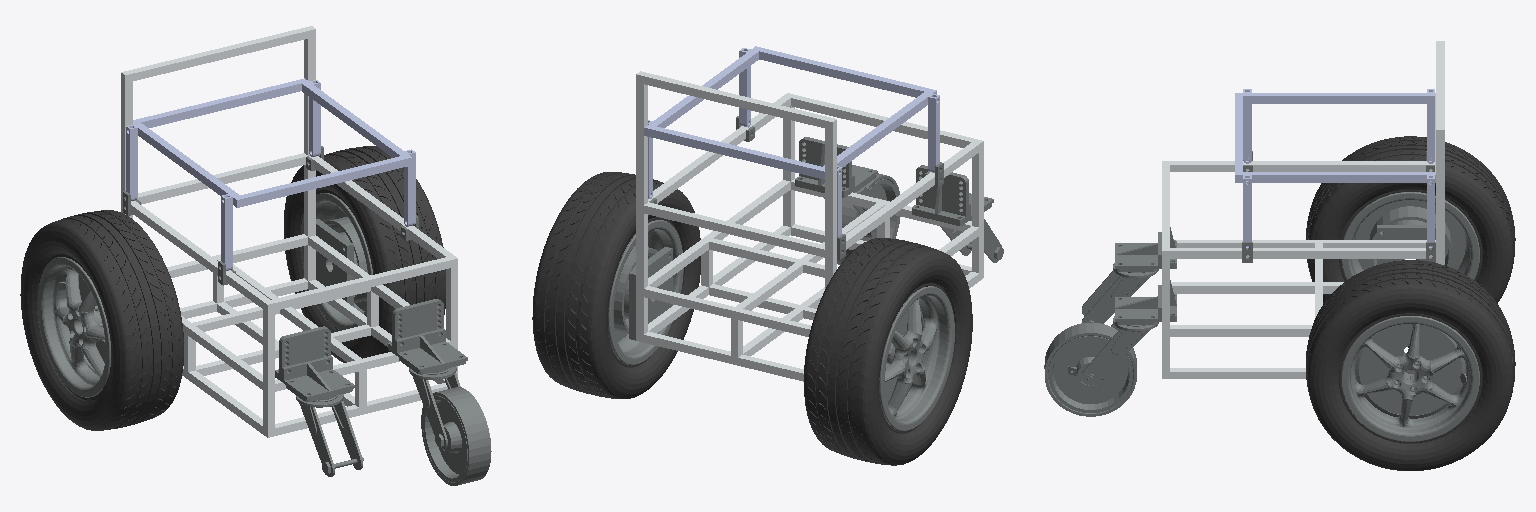
--- Render facts (derived) ---
3 views of the same robot in one strip: view 1: azimuth 30°, elevation 25°; view 2: azimuth 150°, elevation 25°; view 3: azimuth 270°, elevation 25° (orthographic).
Robot: Assem2 — 35 links, 34 joints (2 revolute, 4 continuous, 28 fixed); root link Chassis; default pose: every joint at zero.
Links seen in each view (by area): view 1: Chassis, r_tyre, l_tyre, rl_fixed, r_rim, l_wheel, l_rim, right_p2, left_p2, r_mounting_body, right_p1, left_p1 (+2 smaller); view 2: Chassis, r_tyre, l_tyre, rl_fixed, r_rim, l_rim, right_p1, left_tyre_mount, left_p1, l_wheel, r_mounting_body; view 3: l_tyre, Chassis, l_rim, r_tyre, rl_fixed, l_wheel, r_rim, r_mounting_body, l_mounting_body, right_p2, left_p2, right_tyre_mount.
Boxes of the visible links, bbox=[...] form: Chassis: bbox=[121, 26, 457, 437]; r_tyre: bbox=[20, 210, 183, 430]; l_tyre: bbox=[284, 146, 445, 362]; rl_fixed: bbox=[126, 78, 415, 270]; r_rim: bbox=[38, 257, 110, 397]; l_wheel: bbox=[421, 387, 491, 485]; l_rim: bbox=[301, 193, 372, 330]; right_p2: bbox=[282, 356, 354, 399]; left_p2: bbox=[395, 328, 467, 371]; r_mounting_body: bbox=[296, 394, 362, 476]; right_p1: bbox=[275, 326, 330, 381]; left_p1: bbox=[388, 299, 443, 353]; Chassis: bbox=[636, 71, 983, 381]; r_tyre: bbox=[804, 238, 972, 465]; l_tyre: bbox=[532, 172, 700, 398]; rl_fixed: bbox=[644, 46, 939, 237]; r_rim: bbox=[879, 286, 954, 430]; l_rim: bbox=[608, 220, 683, 364]; right_p1: bbox=[912, 165, 968, 225]; left_tyre_mount: bbox=[624, 247, 672, 340]; left_p1: bbox=[795, 137, 851, 197]; l_wheel: bbox=[837, 173, 899, 264]; r_mounting_body: bbox=[940, 219, 1001, 262]; l_tyre: bbox=[1306, 260, 1515, 470]; Chassis: bbox=[1162, 41, 1444, 378]; l_rim: bbox=[1341, 316, 1479, 441]; r_tyre: bbox=[1306, 136, 1515, 347]; rl_fixed: bbox=[1235, 89, 1435, 247]; l_wheel: bbox=[1044, 323, 1136, 416]; r_rim: bbox=[1341, 192, 1479, 279]; r_mounting_body: bbox=[1082, 263, 1158, 323]; l_mounting_body: bbox=[1082, 316, 1158, 384]; right_p2: bbox=[1115, 232, 1161, 268]; left_p2: bbox=[1115, 285, 1161, 321]; right_tyre_mount: bbox=[1377, 219, 1435, 264].
Bounding box of the posed robot: 1.19 × 1.53 × 1.12 m (x, y, z).
29 mesh visuals loaded from 35 distinct referenced files (29 binary STL); not drawn: 4 (reference not matched to a file when rendering), 2 (file found but could not be loaded).

robot.urdf — Assem2:
<?xml version="1.0" encoding="utf-8"?>
<!-- This URDF was automatically created by SolidWorks to URDF Exporter! Originally created by Stephen Brawner ([email redacted]) 
     Commit Version: 1.5.1-0-g916b5db  Build Version: 1.5.7152.31018
     For more information, please see http://wiki.ros.org/sw_urdf_exporter -->
<robot
  name="Assem2">
  <link
    name="Chassis">
    <inertial>
      <origin
        xyz="-2.8776E-16 0.4538 0.39752"
        rpy="0 0 0" />
      <mass
        value="22.232" />
      <inertia
        ixx="0.0001"
        ixy="0.0001"
        ixz="0.0001"
        iyy="0.0001"
        iyz="0.0001"
        izz="0.0001" />
    </inertial>
    <visual>
      <origin
        xyz="0 0 0"
        rpy="0 0 0" />
      <geometry>
        <mesh
          filename="package://Assem2/meshes/Chassis.STL" />
      </geometry>
      <material
        name="">
        <color
          rgba="0.89804 0.91765 0.92941 1" />
      </material>
    </visual>
    <collision>
      <origin
        xyz="0 0 0"
        rpy="0 0 0" />
      <geometry>
        <mesh
          filename="package://Assem2/meshes/Chassis.STL" />
      </geometry>
    </collision>
  </link>
  <link
    name="left_tyre_mount">
    <inertial>
      <origin
        xyz="-1.3878E-17 0.035211 -5.5511E-17"
        rpy="0 0 0" />
      <mass
        value="14.29" />
      <inertia
        ixx="0.0001"
        ixy="0.0001"
        ixz="0.0001"
        iyy="0.0001"
        iyz="0.0001"
        izz="0.0001" />
    </inertial>
    <visual>
      <origin
        xyz="0 0 0"
        rpy="0 0 0" />
      <geometry>
        <mesh
          filename="package://Assem2/meshes/left_tyre_mount.STL" />
      </geometry>
      <material
        name="">
        <color
          rgba="0.52941 0.54902 0.54902 1" />
      </material>
    </visual>
    <collision>
      <origin
        xyz="0 0 0"
        rpy="0 0 0" />
      <geometry>
        <mesh
          filename="package://Assem2/meshes/left_tyre_mount.STL" />
      </geometry>
    </collision>
  </link>
  <joint
    name="left_tyre_mount_j"
    type="fixed">
    <origin
      xyz="0.34367 -0.09653 0.32653"
      rpy="3.1416 0 1.5708" />
    <parent
      link="Chassis" />
    <child
      link="left_tyre_mount" />
    <axis
      xyz="0 0 0" />
  </joint>
  <link
    name="l_bearing">
    <inertial>
      <origin
        xyz="0.0809 -0.009926 -0.0012141"
        rpy="0 0 0" />
      <mass
        value="1.267" />
      <inertia
        ixx="0.0001"
        ixy="0.0001"
        ixz="0.0001"
        iyy="0.0001"
        iyz="0.0001"
        izz="0.0001" />
    </inertial>
    <visual>
      <origin
        xyz="0 0 0"
        rpy="0 0 0" />
      <geometry>
        <mesh
          filename="package://Assem2/meshes/l_bearing.STL" />
      </geometry>
      <material
        name="">
        <color
          rgba="0.75294 0.75294 0.75294 1" />
      </material>
    </visual>
    <collision>
      <origin
        xyz="0 0 0"
        rpy="0 0 0" />
      <geometry>
        <mesh
          filename="package://Assem2/meshes/l_bearing.STL" />
      </geometry>
    </collision>
  </link>
  <joint
    name="l_bearing_j"
    type="fixed">
    <origin
      xyz="0.01 0 0"
      rpy="3.0199 0 1.5708" />
    <parent
      link="left_tyre_mount" />
    <child
      link="l_bearing" />
    <axis
      xyz="0 0 0" />
  </joint>
  <link
    name="l_rim">
    <inertial>
      <origin
        xyz="0.13619 2.8023E-05 -3.4335E-08"
        rpy="0 0 0" />
      <mass
        value="70.756" />
      <inertia
        ixx="0.0001"
        ixy="0.0001"
        ixz="0.0001"
        iyy="0.0001"
        iyz="0.0001"
        izz="0.0001" />
    </inertial>
    <visual>
      <origin
        xyz="0 0 0"
        rpy="0 0 0" />
      <geometry>
        <mesh
          filename="package://Assem2/meshes/l_rim.STL" />
      </geometry>
      <material
        name="">
        <color
          rgba="0.52941 0.54902 0.54902 1" />
      </material>
    </visual>
    <collision>
      <origin
        xyz="0 0 0"
        rpy="0 0 0" />
      <geometry>
        <mesh
          filename="package://Assem2/meshes/l_rim.STL" />
      </geometry>
    </collision>
  </link>
  <joint
    name="l_rim_j"
    type="continuous">
    <origin
      xyz="0 -0.009926 -0.0012141"
      rpy="0 0 0" />
    <parent
      link="l_bearing" />
    <child
      link="l_rim" />
    <axis
      xyz="1 0 0" />
    <limit
      effort="5"
      velocity="1" />
  </joint>
  <link
    name="l_sprocket">
    <inertial>
      <origin
        xyz="9.3675E-16 -0.029524 0.00039802"
        rpy="0 0 0" />
      <mass
        value="1.5931" />
      <inertia
        ixx="0.0001"
        ixy="0.0001"
        ixz="0.0001"
        iyy="0.0001"
        iyz="0.0001"
        izz="0.0001" />
    </inertial>
    <visual>
      <origin
        xyz="0 0 0"
        rpy="0 0 0" />
      <geometry>
        <mesh
          filename="package://Assem2/meshes/l_sprocket.STL" />
      </geometry>
      <material
        name="">
        <color
          rgba="0.52941 0.54902 0.54902 1" />
      </material>
    </visual>
    <collision>
      <origin
        xyz="0 0 0"
        rpy="0 0 0" />
      <geometry>
        <mesh
          filename="package://Assem2/meshes/l_sprocket.STL" />
      </geometry>
    </collision>
  </link>
  <joint
    name="l_sprocket_j"
    type="fixed">
    <origin
      xyz="0.1422 0 0"
      rpy="0 -0.31416 1.5708" />
    <parent
      link="l_rim" />
    <child
      link="l_sprocket" />
    <axis
      xyz="0 0 0" />
  </joint>
  <link
    name="l_tyre">
    <inertial>
      <origin
        xyz="0.1307 -6.9389E-17 0"
        rpy="0 0 0" />
      <mass
        value="7.6828" />
      <inertia
        ixx="0.0001"
        ixy="0.0001"
        ixz="0.0001"
        iyy="0.0001"
        iyz="0.0001"
        izz="0.0001" />
    </inertial>
    <visual>
      <origin
        xyz="0 0 0"
        rpy="0 0 0" />
      <geometry>
        <mesh
          filename="package://Assem2/meshes/l_tyre.STL" />
      </geometry>
      <material
        name="">
        <color
          rgba="0.29804 0.29804 0.29804 1" />
      </material>
    </visual>
    <collision>
      <origin
        xyz="0 0 0"
        rpy="0 0 0" />
      <geometry>
        <mesh
          filename="package://Assem2/meshes/l_tyre.STL" />
      </geometry>
    </collision>
  </link>
  <joint
    name="l_tyre_j"
    type="fixed">
    <origin
      xyz="0 0 0"
      rpy="-2.827 0 0" />
    <parent
      link="l_rim" />
    <child
      link="l_tyre" />
    <axis
      xyz="1 0 0" />
  </joint>
  <link
    name="right_tyre_mount">
    <inertial>
      <origin
        xyz="0 0.035211 0"
        rpy="0 0 0" />
      <mass
        value="14.29" />
      <inertia
        ixx="0.0001"
        ixy="0.0001"
        ixz="0.0001"
        iyy="0.0001"
        iyz="0.0001"
        izz="0.0001" />
    </inertial>
    <visual>
      <origin
        xyz="0 0 0"
        rpy="0 0 0" />
      <geometry>
        <mesh
          filename="package://Assem2/meshes/right_tyre_mount.STL" />
      </geometry>
      <material
        name="">
        <color
          rgba="0.52941 0.54902 0.54902 1" />
      </material>
    </visual>
    <collision>
      <origin
        xyz="0 0 0"
        rpy="0 0 0" />
      <geometry>
        <mesh
          filename="package://Assem2/meshes/right_tyre_mount.STL" />
      </geometry>
    </collision>
  </link>
  <joint
    name="right_tyre_mount_j"
    type="fixed">
    <origin
      xyz="-0.34367 -0.09653 0.32653"
      rpy="1.5708 -1.5708 0" />
    <parent
      link="Chassis" />
    <child
      link="right_tyre_mount" />
    <axis
      xyz="0 0 0" />
  </joint>
  <link
    name="r_bearing">
    <inertial>
      <origin
        xyz="0.0809 -0.0038538 0.0092276"
        rpy="0 0 0" />
      <mass
        value="1.267" />
      <inertia
        ixx="0.0001"
        ixy="0.0001"
        ixz="0.0001"
        iyy="0.0001"
        iyz="0.0001"
        izz="0.0001" />
    </inertial>
    <visual>
      <origin
        xyz="0 0 0"
        rpy="0 0 0" />
      <geometry>
        <mesh
          filename="package://Assem2/meshes/r_bearing.STL" />
      </geometry>
      <material
        name="">
        <color
          rgba="0.75294 0.75294 0.75294 1" />
      </material>
    </visual>
    <collision>
      <origin
        xyz="0 0 0"
        rpy="0 0 0" />
      <geometry>
        <mesh
          filename="package://Assem2/meshes/r_bearing.STL" />
      </geometry>
    </collision>
  </link>
  <joint
    name="r_bearing_j"
    type="fixed">
    <origin
      xyz="0.01 0 0"
      rpy="-1.9664 0 1.5708" />
    <parent
      link="right_tyre_mount" />
    <child
      link="r_bearing" />
    <axis
      xyz="1 0 0" />
  </joint>
  <link
    name="r_rim">
    <inertial>
      <origin
        xyz="0.13619 2.8011E-05 -3.9794E-08"
        rpy="0 0 0" />
      <mass
        value="70.756" />
      <inertia
        ixx="0.0001"
        ixy="0.0001"
        ixz="0.0001"
        iyy="0.0001"
        iyz="0.0001"
        izz="0.0001" />
    </inertial>
    <visual>
      <origin
        xyz="0 0 0"
        rpy="0 0 0" />
      <geometry>
        <mesh
          filename="package://Assem2/meshes/r_rim.STL" />
      </geometry>
      <material
        name="">
        <color
          rgba="0.52941 0.54902 0.54902 1" />
      </material>
    </visual>
    <collision>
      <origin
        xyz="0 0 0"
        rpy="0 0 0" />
      <geometry>
        <mesh
          filename="package://Assem2/meshes/r_rim.STL" />
      </geometry>
    </collision>
  </link>
  <joint
    name="r_rim_j"
    type="continuous">
    <origin
      xyz="0 -0.0038538 0.0092276"
      rpy="0 0 0" />
    <parent
      link="r_bearing" />
    <child
      link="r_rim" />
    <axis
      xyz="1 0 0" />
    <limit
      effort="5"
      velocity="1" />
  </joint>
  <link
    name="r_sprocket">
    <inertial>
      <origin
        xyz="9.4369E-16 -0.029524 0.00039802"
        rpy="0 0 0" />
      <mass
        value="1.5931" />
      <inertia
        ixx="0.0001"
        ixy="0.0001"
        ixz="0.0001"
        iyy="0.0001"
        iyz="0.0001"
        izz="0.0001" />
    </inertial>
    <visual>
      <origin
        xyz="0 0 0"
        rpy="0 0 0" />
      <geometry>
        <mesh
          filename="package://Assem2/meshes/r_sprocket.STL" />
      </geometry>
      <material
        name="">
        <color
          rgba="0.52941 0.54902 0.54902 1" />
      </material>
    </visual>
    <collision>
      <origin
        xyz="0 0 0"
        rpy="0 0 0" />
      <geometry>
        <mesh
          filename="package://Assem2/meshes/r_sprocket.STL" />
      </geometry>
    </collision>
  </link>
  <joint
    name="r_sprocket_j"
    type="fixed">
    <origin
      xyz="0.1422 0 0"
      rpy="0 -0.31416 1.5708" />
    <parent
      link="r_rim" />
    <child
      link="r_sprocket" />
    <axis
      xyz="0 1 0" />
  </joint>
  <link
    name="r_tyre">
    <inertial>
      <origin
        xyz="0.1307 1.1102E-16 2.7756E-16"
        rpy="0 0 0" />
      <mass
        value="7.6828" />
      <inertia
        ixx="0.0001"
        ixy="0.0001"
        ixz="0.0001"
        iyy="0.0001"
        iyz="0.0001"
        izz="0.0001" />
    </inertial>
    <visual>
      <origin
        xyz="0 0 0"
        rpy="0 0 0" />
      <geometry>
        <mesh
          filename="package://Assem2/meshes/r_tyre.STL" />
      </geometry>
      <material
        name="">
        <color
          rgba="0.29804 0.29804 0.29804 1" />
      </material>
    </visual>
    <collision>
      <origin
        xyz="0 0 0"
        rpy="0 0 0" />
      <geometry>
        <mesh
          filename="package://Assem2/meshes/r_tyre.STL" />
      </geometry>
    </collision>
  </link>
  <joint
    name="r_tyre_j"
    type="fixed">
    <origin
      xyz="0 0 0"
      rpy="-2.827 0 0" />
    <parent
      link="r_rim" />
    <child
      link="r_tyre" />
    <axis
      xyz="1 0 0" />
  </joint>
  <link
    name="fl_upper">
    <inertial>
      <origin
        xyz="-3.4694E-18 0.012951 0.02796"
        rpy="0 0 0" />
      <mass
        value="0.32153" />
      <inertia
        ixx="0.0001"
        ixy="0.0001"
        ixz="0.0001"
        iyy="0.0001"
        iyz="0.0001"
        izz="0.0001" />
    </inertial>
    <visual>
      <origin
        xyz="0 0 0"
        rpy="0 0 0" />
      <geometry>
        <mesh
          filename="package://Assem2/meshes/fl_upper.STL" />
      </geometry>
      <material
        name="">
        <color
          rgba="0.52941 0.54902 0.54902 1" />
      </material>
    </visual>
    <collision>
      <origin
        xyz="0 0 0"
        rpy="0 0 0" />
      <geometry>
        <mesh
          filename="package://Assem2/meshes/fl_upper.STL" />
      </geometry>
    </collision>
  </link>
  <joint
    name="fl_upper_j"
    type="fixed">
    <origin
      xyz="0.30673 -0.03047 0.67527"
      rpy="-1.5708 0 -1.5708" />
    <parent
      link="Chassis" />
    <child
      link="fl_upper" />
    <axis
      xyz="0 0 0" />
  </joint>
  <link
    name="fl_fixed">
    <inertial>
      <origin
        xyz="0.32385 0.194 -0.31372"
        rpy="0 0 0" />
      <mass
        value="1.8214" />
      <inertia
        ixx="0.0001"
        ixy="0.0001"
        ixz="0.0001"
        iyy="0.0001"
        iyz="0.0001"
        izz="0.0001" />
    </inertial>
    <visual>
      <origin
        xyz="0 0 0"
        rpy="0 0 0" />
      <geometry>
        <mesh
          filename="package://Assem2/meshes/fl_fixed.STL" />
      </geometry>
      <material
        name="">
        <color
          rgba="0.79216 0.81961 0.93333 1" />
      </material>
    </visual>
    <collision>
      <origin
        xyz="0 0 0"
        rpy="0 0 0" />
      <geometry>
        <mesh
          filename="package://Assem2/meshes/fl_fixed.STL" />
      </geometry>
    </collision>
  </link>
  <joint
    name="fl_fixed_j"
    type="fixed">
    <origin
      xyz="0.62076 -0.0035296 -0.0034704"
      rpy="0.051754 0 3.1416" />
    <parent
      link="fl_upper" />
    <child
      link="fl_fixed" />
    <axis
      xyz="0 0 0" />
  </joint>
  <link
    name="fr_upper">
    <inertial>
      <origin
        xyz="3.4694E-18 -0.012951 -0.02796"
        rpy="0 0 0" />
      <mass
        value="0.32153" />
      <inertia
        ixx="0.0001"
        ixy="0.0001"
        ixz="0.0001"
        iyy="0.0001"
        iyz="0.0001"
        izz="0.0001" />
    </inertial>
    <visual>
      <origin
        xyz="0 0 0"
        rpy="0 0 0" />
      <geometry>
        <mesh
          filename="package://Assem2/meshes/fr_upper.STL" />
      </geometry>
      <material
        name="">
        <color
          rgba="0.52941 0.54902 0.54902 1" />
      </material>
    </visual>
    <collision>
      <origin
        xyz="0 0 0"
        rpy="0 0 0" />
      <geometry>
        <mesh
          filename="package://Assem2/meshes/fr_upper.STL" />
      </geometry>
    </collision>
  </link>
  <joint
    name="fr_upper_j"
    type="fixed">
    <origin
      xyz="-0.30673 -0.03047 0.67527"
      rpy="1.5708 0 1.5708" />
    <parent
      link="Chassis" />
    <child
      link="fr_upper" />
    <axis
      xyz="0 0 0" />
  </joint>
  <link
    name="fr_fixed">
    <inertial>
      <origin
        xyz="0.32385 0.194 -0.31372"
        rpy="0 0 0" />
      <mass
        value="1.8214" />
      <inertia
        ixx="0.0001"
        ixy="0.0001"
        ixz="0.0001"
        iyy="0.0001"
        iyz="0.0001"
        izz="0.0001" />
    </inertial>
    <visual>
      <origin
        xyz="0 0 0"
        rpy="0 0 0" />
      <geometry>
        <mesh
          filename="package://Assem2/meshes/fr_fixed.STL" />
      </geometry>
      <material
        name="">
        <color
          rgba="0.79216 0.81961 0.93333 1" />
      </material>
    </visual>
    <collision>
      <origin
        xyz="0 0 0"
        rpy="0 0 0" />
      <geometry>
        <mesh
          filename="package://Assem2/meshes/fr_fixed.STL" />
      </geometry>
    </collision>
  </link>
  <joint
    name="fr_fixed_j"
    type="fixed">
    <origin
      xyz="-0.62076 0.0035296 0.60999"
      rpy="0.051754 0 0" />
    <parent
      link="fr_upper" />
    <child
      link="fr_fixed" />
    <axis
      xyz="0 0 0" />
  </joint>
  <link
    name="rl_upper">
    <inertial>
      <origin
        xyz="0 0.012951 0.02796"
        rpy="0 0 0" />
      <mass
        value="0.32153" />
      <inertia
        ixx="0.0001"
        ixy="0.0001"
        ixz="0.0001"
        iyy="0.0001"
        iyz="0.0001"
        izz="0.0001" />
    </inertial>
    <visual>
      <origin
        xyz="0 0 0"
        rpy="0 0 0" />
      <geometry>
        <mesh
          filename="package://Assem2/meshes/rl_upper.STL" />
      </geometry>
      <material
        name="">
        <color
          rgba="0.52941 0.54902 0.54902 1" />
      </material>
    </visual>
    <collision>
      <origin
        xyz="0 0 0"
        rpy="0 0 0" />
      <geometry>
        <mesh
          filename="package://Assem2/meshes/rl_upper.STL" />
      </geometry>
    </collision>
  </link>
  <joint
    name="rl_upper_j"
    type="fixed">
    <origin
      xyz="0.30673 -0.62429 0.67527"
      rpy="-1.5708 0 -1.5708" />
    <parent
      link="Chassis" />
    <child
      link="rl_upper" />
    <axis
      xyz="0 0 0" />
  </joint>
  <link
    name="rl_fixed">
    <inertial>
      <origin
        xyz="0.32385 0.194 -0.31372"
        rpy="0 0 0" />
      <mass
        value="1.8214" />
      <inertia
        ixx="0.0001"
        ixy="0.0001"
        ixz="0.0001"
        iyy="0.0001"
        iyz="0.0001"
        izz="0.0001" />
    </inertial>
    <visual>
      <origin
        xyz="0 0 0"
        rpy="0 0 0" />
      <geometry>
        <mesh
          filename="package://Assem2/meshes/rl_fixed.STL" />
      </geometry>
      <material
        name="">
        <color
          rgba="0.79216 0.81961 0.93333 1" />
      </material>
    </visual>
    <collision>
      <origin
        xyz="0 0 0"
        rpy="0 0 0" />
      <geometry>
        <mesh
          filename="package://Assem2/meshes/rl_fixed.STL" />
      </geometry>
    </collision>
  </link>
  <joint
    name="rl_fixed_j"
    type="fixed">
    <origin
      xyz="0.026941 -0.0035296 -0.0034704"
      rpy="0.051754 0 3.1416" />
    <parent
      link="rl_upper" />
    <child
      link="rl_fixed" />
    <axis
      xyz="0 0 0" />
  </joint>
  <link
    name="rr_upper">
    <inertial>
      <origin
        xyz="0 -0.012951 -0.02796"
        rpy="0 0 0" />
      <mass
        value="0.32153" />
      <inertia
        ixx="0.0001"
        ixy="0.0001"
        ixz="0.0001"
        iyy="0.0001"
        iyz="0.0001"
        izz="0.0001" />
    </inertial>
    <visual>
      <origin
        xyz="0 0 0"
        rpy="0 0 0" />
      <geometry>
        <mesh
          filename="package://Assem2/meshes/rr_upper.STL" />
      </geometry>
      <material
        name="">
        <color
          rgba="0.52941 0.54902 0.54902 1" />
      </material>
    </visual>
    <collision>
      <origin
        xyz="0 0 0"
        rpy="0 0 0" />
      <geometry>
        <mesh
          filename="package://Assem2/meshes/rr_upper.STL" />
      </geometry>
    </collision>
  </link>
  <joint
    name="rr_upper_j"
    type="fixed">
    <origin
      xyz="-0.30673 -0.62429 0.67527"
      rpy="1.5708 0 1.5708" />
    <parent
      link="Chassis" />
    <child
      link="rr_upper" />
    <axis
      xyz="0 0 0" />
  </joint>
  <link
    name="rr_fixed">
    <inertial>
      <origin
        xyz="0.32385 0.194 -0.31372"
        rpy="0 0 0" />
      <mass
        value="1.8214" />
      <inertia
        ixx="0.0001"
        ixy="0.0001"
        ixz="0.0001"
        iyy="0.0001"
        iyz="0.0001"
        izz="0.0001" />
    </inertial>
    <visual>
      <origin
        xyz="0 0 0"
        rpy="0 0 0" />
      <geometry>
        <mesh
          filename="package://Assem2/meshes/rr_fixed.STL" />
      </geometry>
      <material
        name="">
        <color
          rgba="0.79216 0.81961 0.93333 1" />
      </material>
    </visual>
    <collision>
      <origin
        xyz="0 0 0"
        rpy="0 0 0" />
      <geometry>
        <mesh
          filename="package://Assem2/meshes/rr_fixed.STL" />
      </geometry>
    </collision>
  </link>
  <joint
    name="rr_fixed_j"
    type="fixed">
    <origin
      xyz="-0.026941 0.0035296 0.60999"
      rpy="0.051754 0 0" />
    <parent
      link="rr_upper" />
    <child
      link="rr_fixed" />
    <axis
      xyz="0 0 0" />
  </joint>
  <link
    name="left_p1">
    <inertial>
      <origin
        xyz="5.5511E-17 0.061717 0.014443"
        rpy="0 0 0" />
      <mass
        value="4.5214" />
      <inertia
        ixx="0.0001"
        ixy="0.0001"
        ixz="0.0001"
        iyy="0.0001"
        iyz="0.0001"
        izz="0.0001" />
    </inertial>
    <visual>
      <origin
        xyz="0 0 0"
        rpy="0 0 0" />
      <geometry>
        <mesh
          filename="package://Assem2/meshes/left_p1.STL" />
      </geometry>
      <material
        name="">
        <color
          rgba="0.52941 0.54902 0.54902 1" />
      </material>
    </visual>
    <collision>
      <origin
        xyz="0 0 0"
        rpy="0 0 0" />
      <geometry>
        <mesh
          filename="package://Assem2/meshes/left_p1.STL" />
      </geometry>
    </collision>
  </link>
  <joint
    name="left_p1_j"
    type="fixed">
    <origin
      xyz="0.20383 -0.90247 0.39587"
      rpy="1.5708 0 3.1416" />
    <parent
      link="Chassis" />
    <child
      link="left_p1" />
    <axis
      xyz="0 0 0" />
  </joint>
  <link
    name="left_p2">
    <inertial>
      <origin
        xyz="2.7756E-17 0.0019712 -0.046369"
        rpy="0 0 0" />
      <mass
        value="2.9176" />
      <inertia
        ixx="0.0001"
        ixy="0.0001"
        ixz="0.0001"
        iyy="0.0001"
        iyz="0.0001"
        izz="0.0001" />
    </inertial>
    <visual>
      <origin
        xyz="0 0 0"
        rpy="0 0 0" />
      <geometry>
        <mesh
          filename="package://Assem2/meshes/left_p2.STL" />
      </geometry>
      <material
        name="">
        <color
          rgba="0.52941 0.54902 0.54902 1" />
      </material>
    </visual>
    <collision>
      <origin
        xyz="0 0 0"
        rpy="0 0 0" />
      <geometry>
        <mesh
          filename="package://Assem2/meshes/left_p2.STL" />
      </geometry>
    </collision>
  </link>
  <joint
    name="left_p2_j"
    type="fixed">
    <origin
      xyz="0 0.0108 -0.0127"
      rpy="0 0 0" />
    <parent
      link="left_p1" />
    <child
      link="left_p2" />
    <axis
      xyz="0 0 0" />
  </joint>
  <link
    name="l_mount">
    <inertial>
      <origin
        xyz="-2.7756E-17 -0.002632 -1.1102E-16"
        rpy="0 0 0" />
      <mass
        value="3.3553" />
      <inertia
        ixx="0.0001"
        ixy="0.0001"
        ixz="0.0001"
        iyy="0.0001"
        iyz="0.0001"
        izz="0.0001" />
    </inertial>
    <visual>
      <origin
        xyz="0 0 0"
        rpy="0 0 0" />
      <geometry>
        <mesh
          filename="package://Assem2/meshes/l_mount.STL" />
      </geometry>
      <material
        name="">
        <color
          rgba="0.52941 0.54902 0.54902 1" />
      </material>
    </visual>
    <collision>
      <origin
        xyz="0 0 0"
        rpy="0 0 0" />
      <geometry>
        <mesh
          filename="package://Assem2/meshes/l_mount.STL" />
      </geometry>
    </collision>
  </link>
  <joint
    name="l_mount_j"
    type="fixed">
    <origin
      xyz="0 -0.02 -0.07"
      rpy="3.1416 0 3.1416" />
    <parent
      link="left_p2" />
    <child
      link="l_mount" />
    <axis
      xyz="0 0 0" />
  </joint>
  <link
    name="l_mounting_body">
    <inertial>
      <origin
        xyz="5.4971E-09 -0.051889 0.045522"
        rpy="0 0 0" />
      <mass
        value="3.4201" />
      <inertia
        ixx="0.0001"
        ixy="0.0001"
        ixz="0.0001"
        iyy="0.0001"
        iyz="0.0001"
        izz="0.0001" />
    </inertial>
    <visual>
      <origin
        xyz="0 0 0"
        rpy="0 0 0" />
      <geometry>
        <mesh
          filename="package://Assem2/meshes/l_mounting_body.STL" />
      </geometry>
      <material
        name="">
        <color
          rgba="0.52941 0.54902 0.54902 1" />
      </material>
    </visual>
    <collision>
      <origin
        xyz="0 0 0"
        rpy="0 0 0" />
      <geometry>
        <mesh
          filename="package://Assem2/meshes/l_mounting_body.STL" />
      </geometry>
    </collision>
  </link>
  <joint
    name="l_mounting_body_j"
    type="revolute">
    <origin
      xyz="0 -0.03 0"
      rpy="0 0.0024378 0" />
    <parent
      link="l_mount" />
    <child
      link="l_mounting_body" />
    <axis
      xyz="0 1 0" />
    <limit
      lower="-1.57"
      upper="1.57"
      effort="1"
      velocity="1" />
  </joint>
  <link
    name="l_screw">
    <inertial>
      <origin
        xyz="0 0.038426 -1.7097E-14"
        rpy="0 0 0" />
      <mass
        value="0.27143" />
      <inertia
        ixx="0.0001"
        ixy="0.0001"
        ixz="0.0001"
        iyy="0.0001"
        iyz="0.0001"
        izz="0.0001" />
    </inertial>
    <visual>
      <origin
        xyz="0 0 0"
        rpy="0 0 0" />
      <geometry>
        <mesh
          filename="package://Assem2/meshes/l_screw.STL" />
      </geometry>
      <material
        name="">
        <color
          rgba="0.52941 0.54902 0.54902 1" />
      </material>
    </visual>
    <collision>
      <origin
        xyz="0 0 0"
        rpy="0 0 0" />
      <geometry>
        <mesh
          filename="package://Assem2/meshes/l_screw.STL" />
      </geometry>
    </collision>
  </link>
  <joint
    name="l_screw_j"
    type="fixed">
    <origin
      xyz="-0.055 -0.17 0.147"
      rpy="0 0 -1.5708" />
    <parent
      link="l_mounting_body" />
    <child
      link="l_screw" />
    <axis
      xyz="0 0 0" />
  </joint>
  <link
    name="l_wheel">
    <inertial>
      <origin
        xyz="-0.0099772 -0.00080183 0.055043"
        rpy="0 0 0" />
      <mass
        value="24.277" />
      <inertia
        ixx="0.0001"
        ixy="0.0001"
        ixz="0.0001"
        iyy="0.0001"
        iyz="0.0001"
        izz="0.0001" />
    </inertial>
    <visual>
      <origin
        xyz="0 0 0"
        rpy="0 0 0" />
      <geometry>
        <mesh
          filename="package://Assem2/meshes/l_wheel.STL" />
      </geometry>
      <material
        name="">
        <color
          rgba="0.52941 0.54902 0.54902 1" />
      </material>
    </visual>
    <collision>
      <origin
        xyz="0 0 0"
        rpy="0 0 0" />
      <geometry>
        <mesh
          filename="package://Assem2/meshes/l_wheel.STL" />
      </geometry>
    </collision>
  </link>
  <joint
    name="l_wheel_j"
    type="continuous">
    <origin
      xyz="0.01 0 0"
      rpy="-1.5708 -0.067482 0" />
    <parent
      link="l_screw" />
    <child
      link="l_wheel" />
    <axis
      xyz="1 0 0" />
    <limit
      effort="5"
      velocity="1" />
  </joint>
  <link
    name="l_upper_bolt">
    <inertial>
      <origin
        xyz="0 -0.005 0"
        rpy="0 0 0" />
      <mass
        value="0.018361" />
      <inertia
        ixx="0.0001"
        ixy="0.0001"
        ixz="0.0001"
        iyy="0.0001"
        iyz="0.0001"
        izz="0.0001" />
    </inertial>
    <visual>
      <origin
        xyz="0 0 0"
        rpy="0 0 0" />
      <geometry>
        <mesh
          filename="package://Assem2/meshes/l_upper_bolt.STL" />
      </geometry>
      <material
        name="">
        <color
          rgba="0.52941 0.54902 0.54902 1" />
      </material>
    </visual>
    <collision>
      <origin
        xyz="0 0 0"
        rpy="0 0 0" />
      <geometry>
        <mesh
          filename="package://Assem2/meshes/l_upper_bolt.STL" />
      </geometry>
    </collision>
  </link>
  <joint
    name="l_upper_bolt_j"
    type="fixed">
    <origin
      xyz="0 0 0"
      rpy="0 -0.32162 0" />
    <parent
      link="l_mounting_body" />
    <child
      link="l_upper_bolt" />
    <axis
      xyz="0 0 0" />
  </joint>
  <link
    name="l_lower_bolt">
    <inertial>
      <origin
        xyz="2.7756E-17 0.005 0"
        rpy="0 0 0" />
      <mass
        value="0.018361" />
      <inertia
        ixx="0.0001"
        ixy="0.0001"
        ixz="0.0001"
        iyy="0.0001"
        iyz="0.0001"
        izz="0.0001" />
    </inertial>
    <visual>
      <origin
        xyz="0 0 0"
        rpy="0 0 0" />
      <geometry>
        <mesh
          filename="package://Assem2/meshes/l_lower_bolt.STL" />
      </geometry>
      <material
        name="">
        <color
          rgba="0.52941 0.54902 0.54902 1" />
      </material>
    </visual>
    <collision>
      <origin
        xyz="0 0 0"
        rpy="0 0 0" />
      <geometry>
        <mesh
          filename="package://Assem2/meshes/l_lower_bolt.STL" />
      </geometry>
    </collision>
  </link>
  <joint
    name="l_lower_bolt_j"
    type="fixed">
    <origin
      xyz="0.065 -0.17 0.147"
      rpy="0 0 1.5708" />
    <parent
      link="l_mounting_body" />
    <child
      link="l_lower_bolt" />
    <axis
      xyz="0 0 0" />
  </joint>
  <link
    name="right_p1">
    <inertial>
      <origin
        xyz="2.7756E-17 0.061717 0.014443"
        rpy="0 0 0" />
      <mass
        value="4.5214" />
      <inertia
        ixx="0.0001"
        ixy="0.0001"
        ixz="0.0001"
        iyy="0.0001"
        iyz="0.0001"
        izz="0.0001" />
    </inertial>
    <visual>
      <origin
        xyz="0 0 0"
        rpy="0 0 0" />
      <geometry>
        <mesh
          filename="package://Assem2/meshes/right_p1.STL" />
      </geometry>
      <material
        name="">
        <color
          rgba="0.52941 0.54902 0.54902 1" />
      </material>
    </visual>
    <collision>
      <origin
        xyz="0 0 0"
        rpy="0 0 0" />
      <geometry>
        <mesh
          filename="package://Assem2/meshes/right_p1.STL" />
      </geometry>
    </collision>
  </link>
  <joint
    name="right_p1_j"
    type="fixed">
    <origin
      xyz="-0.20383 -0.90247 0.39587"
      rpy="1.5708 0 3.1416" />
    <parent
      link="Chassis" />
    <child
      link="right_p1" />
    <axis
      xyz="0 0 0" />
  </joint>
  <link
    name="right_p2">
    <inertial>
      <origin
        xyz="5.5511E-17 0.0019712 -0.046369"
        rpy="0 0 0" />
      <mass
        value="2.9176" />
      <inertia
        ixx="0.0001"
        ixy="0.0001"
        ixz="0.0001"
        iyy="0.0001"
        iyz="0.0001"
        izz="0.0001" />
    </inertial>
    <visual>
      <origin
        xyz="0 0 0"
        rpy="0 0 0" />
      <geometry>
        <mesh
          filename="package://Assem2/meshes/right_p2.STL" />
      </geometry>
      <material
        name="">
        <color
          rgba="0.52941 0.54902 0.54902 1" />
      </material>
    </visual>
    <collision>
      <origin
        xyz="0 0 0"
        rpy="0 0 0" />
      <geometry>
        <mesh
          filename="package://Assem2/meshes/right_p2.STL" />
      </geometry>
    </collision>
  </link>
  <joint
    name="right_p2_j"
    type="fixed">
    <origin
      xyz="0 0.0108 -0.0126999999999999"
      rpy="0 0 0" />
    <parent
      link="right_p1" />
    <child
      link="right_p2" />
    <axis
      xyz="0 0 0" />
  </joint>
  <link
    name="r_mount">
    <inertial>
      <origin
        xyz="5.5511E-17 -0.002632 1.1102E-16"
        rpy="0 0 0" />
      <mass
        value="3.3553" />
      <inertia
        ixx="0.0001"
        ixy="0.0001"
        ixz="0.0001"
        iyy="0.0001"
        iyz="0.0001"
        izz="0.0001" />
    </inertial>
    <visual>
      <origin
        xyz="0 0 0"
        rpy="0 0 0" />
      <geometry>
        <mesh
          filename="package://Assem2/meshes/r_mount.STL" />
      </geometry>
      <material
        name="">
        <color
          rgba="0.52941 0.54902 0.54902 1" />
      </material>
    </visual>
    <collision>
      <origin
        xyz="0 0 0"
        rpy="0 0 0" />
      <geometry>
        <mesh
          filename="package://Assem2/meshes/r_mount.STL" />
      </geometry>
    </collision>
  </link>
  <joint
    name="r_mount_j"
    type="fixed">
    <origin
      xyz="0 -0.02 -0.07"
      rpy="3.1416 0 3.1416" />
    <parent
      link="right_p2" />
    <child
      link="r_mount" />
    <axis
      xyz="0 0 0" />
  </joint>
  <link
    name="r_mounting_body">
    <inertial>
      <origin
        xyz="5.4971E-09 -0.051889 0.045522"
        rpy="0 0 0" />
      <mass
        value="3.4201" />
      <inertia
        ixx="0.0001"
        ixy="0.0001"
        ixz="0.0001"
        iyy="0.0001"
        iyz="0.0001"
        izz="0.0001" />
    </inertial>
    <visual>
      <origin
        xyz="0 0 0"
        rpy="0 0 0" />
      <geometry>
        <mesh
          filename="package://Assem2/meshes/r_mounting_body.STL" />
      </geometry>
      <material
        name="">
        <color
          rgba="0.52941 0.54902 0.54902 1" />
      </material>
    </visual>
    <collision>
      <origin
        xyz="0 0 0"
        rpy="0 0 0" />
      <geometry>
        <mesh
          filename="package://Assem2/meshes/r_mounting_body.STL" />
      </geometry>
    </collision>
  </link>
  <joint
    name="r_mounting_body_j"
    type="revolute">
    <origin
      xyz="0 -0.03 0"
      rpy="0 0.0024378 0" />
    <parent
      link="r_mount" />
    <child
      link="r_mounting_body" />
    <axis
      xyz="0 1 0" />
    <limit
      lower="-1.57"
      upper="1.57"
      effort="1"
      velocity="1" />
  </joint>
  <link
    name="r_screw">
    <inertial>
      <origin
        xyz="2.7756E-17 0.038426 -1.6653E-14"
        rpy="0 0 0" />
      <mass
        value="0.27143" />
      <inertia
        ixx="0.0001"
        ixy="0.0001"
        ixz="0.0001"
        iyy="0.0001"
        iyz="0.0001"
        izz="0.0001" />
    </inertial>
    <visual>
      <origin
        xyz="0 0 0"
        rpy="0 0 0" />
      <geometry>
        <mesh
          filename="package://Assem2/meshes/r_screw.STL" />
      </geometry>
      <material
        name="">
        <color
          rgba="0.52941 0.54902 0.54902 1" />
      </material>
    </visual>
    <collision>
      <origin
        xyz="0 0 0"
        rpy="0 0 0" />
      <geometry>
        <mesh
          filename="package://Assem2/meshes/r_screw.STL" />
      </geometry>
    </collision>
  </link>
  <joint
    name="r_screw_j"
    type="fixed">
    <origin
      xyz="-0.055 -0.17 0.147"
      rpy="0 0 -1.5708" />
    <parent
      link="r_mounting_body" />
    <child
      link="r_screw" />
    <axis
      xyz="0 0 0" />
  </joint>
  <link
    name="r_wheel">
    <inertial>
      <origin
        xyz="-0.0099772 -0.00080183 0.055043"
        rpy="0 0 0" />
      <mass
        value="24.277" />
      <inertia
        ixx="0.0001"
        ixy="0.0001"
        ixz="0.0001"
        iyy="0.0001"
        iyz="0.0001"
        izz="0.0001" />
    </inertial>
    <visual>
      <origin
        xyz="0 0 0"
        rpy="0 0 0" />
      <geometry>
        <mesh
          filename="package://Assem2/meshes/r_wheel.STL" />
      </geometry>
      <material
        name="">
        <color
          rgba="0.52941 0.54902 0.54902 1" />
      </material>
    </visual>
    <collision>
      <origin
        xyz="0 0 0"
        rpy="0 0 0" />
      <geometry>
        <mesh
          filename="package://Assem2/meshes/r_wheel.STL" />
      </geometry>
    </collision>
  </link>
  <joint
    name="r_wheel_j"
    type="continuous">
    <origin
      xyz="0.01 0 0"
      rpy="-1.5708 -0.067482 0" />
    <parent
      link="r_screw" />
    <child
      link="r_wheel" />
    <axis
      xyz="1 0 0" />
    <limit
      effort="5"
      velocity="1" />
  </joint>
  <link
    name="r_upper_bolt">
    <inertial>
      <origin
        xyz="5.5511E-17 -0.005 2.2204E-16"
        rpy="0 0 0" />
      <mass
        value="0.018361" />
      <inertia
        ixx="0.0001"
        ixy="0.0001"
        ixz="0.0001"
        iyy="0.0001"
        iyz="0.0001"
        izz="0.0001" />
    </inertial>
    <visual>
      <origin
        xyz="0 0 0"
        rpy="0 0 0" />
      <geometry>
        <mesh
          filename="package://Assem2/meshes/r_upper_bolt.STL" />
      </geometry>
      <material
        name="">
        <color
          rgba="0.52941 0.54902 0.54902 1" />
      </material>
    </visual>
    <collision>
      <origin
        xyz="0 0 0"
        rpy="0 0 0" />
      <geometry>
        <mesh
          filename="package://Assem2/meshes/r_upper_bolt.STL" />
      </geometry>
    </collision>
  </link>
  <joint
    name="r_upper_bolt_j"
    type="fixed">
    <origin
      xyz="0 0 0"
      rpy="0 -0.32162 0" />
    <parent
      link="r_mounting_body" />
    <child
      link="r_upper_bolt" />
    <axis
      xyz="0 0 0" />
  </joint>
  <link
    name="r_lower_bolt">
    <inertial>
      <origin
        xyz="8.3267E-17 0.005 2.2204E-16"
        rpy="0 0 0" />
      <mass
        value="0.018361" />
      <inertia
        ixx="0.0001"
        ixy="0.0001"
        ixz="0.0001"
        iyy="0.0001"
        iyz="0.0001"
        izz="0.0001" />
    </inertial>
    <visual>
      <origin
        xyz="0 0 0"
        rpy="0 0 0" />
      <geometry>
        <mesh
          filename="package://Assem2/meshes/r_lower_bolt.STL" />
      </geometry>
      <material
        name="">
        <color
          rgba="0.52941 0.54902 0.54902 1" />
      </material>
    </visual>
    <collision>
      <origin
        xyz="0 0 0"
        rpy="0 0 0" />
      <geometry>
        <mesh
          filename="package://Assem2/meshes/r_lower_bolt.STL" />
      </geometry>
    </collision>
  </link>
  <joint
    name="r_lower_bolt_j"
    type="fixed">
    <origin
      xyz="0.065 -0.17 0.147"
      rpy="0 0 1.5708" />
    <parent
      link="r_mounting_body" />
    <child
      link="r_lower_bolt" />
    <axis
      xyz="0 0 0" />
  </joint>
  
  <plugin name="differential_drive_controller" 	filename="libgazebo_ros_diff_drive.so">
    <alwaysOn>true</alwaysOn>
    <updateRate>10</updateRate>
    <leftJoint>l_rim_j</leftJoint>
    <!-- matching your left joint name -->
    <rightJoint>r_rim_j</rightJoint>
    <!-- matching your right joint name -->
    <wheelSeparation>0.9181</wheelSeparation>
    <wheelDiameter>0.68</wheelDiameter>
    <torque>20</torque>
    <commandTopic>cmd_vel</commandTopic>
    <!-- topic name published in the cpp file -->
    <odometryTopic>odom</odometryTopic>
    <odometryFrame>odom</odometryFrame>
    <robotBaseFrame>base_footprint</robotBaseFrame>
  </plugin> 

</robot>
